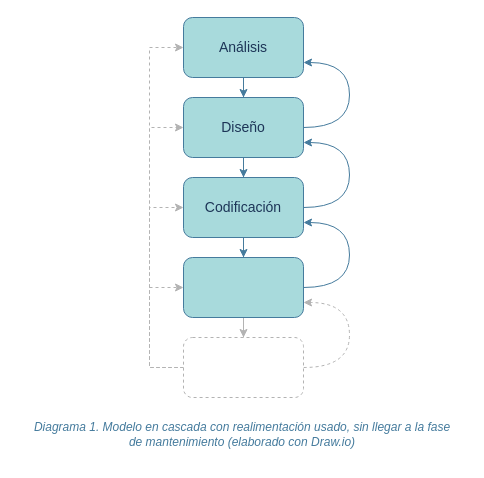
Image size: 484x478. Some labels were removed from this diagram. The centre of each missing label's shape, as x and y in pixels:
"Mantenimiento" goes at pixel 243 367.
"Pruebas" goes at pixel 243 287.
